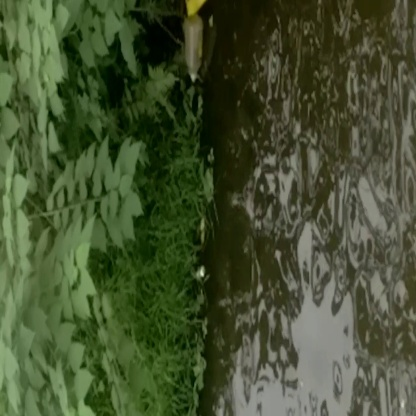bottle: (179, 17, 212, 83)
